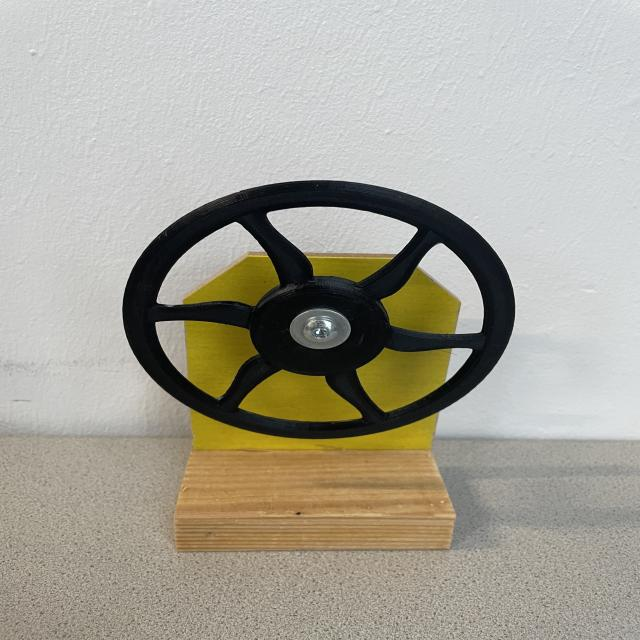Wheel Handle Valve Threaded: (121, 178, 517, 440)
